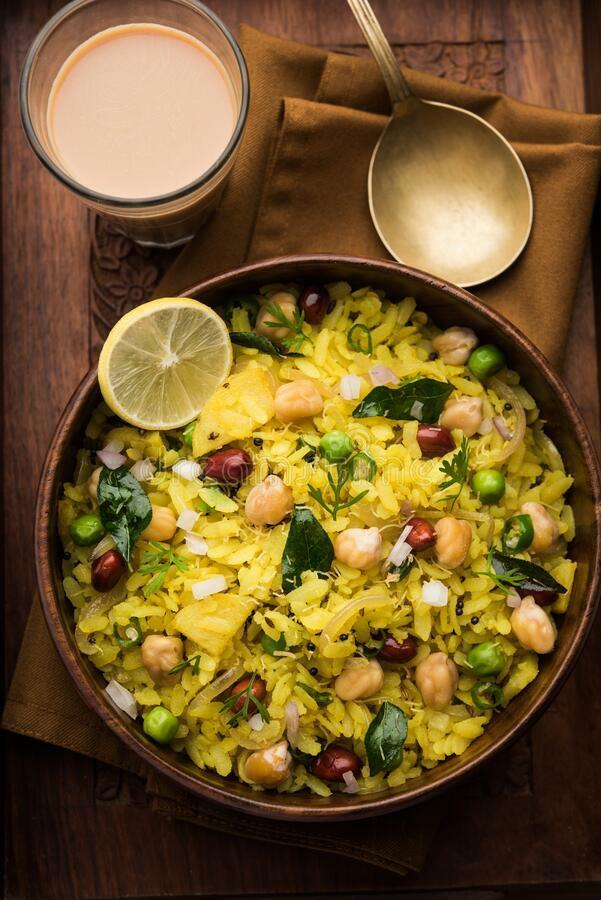Poha: (59, 284, 576, 799)
